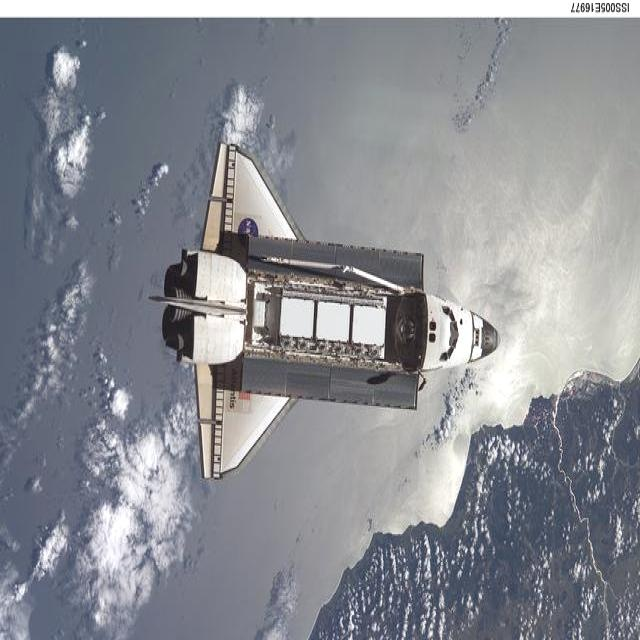medium_debris: (157, 125, 499, 482)
